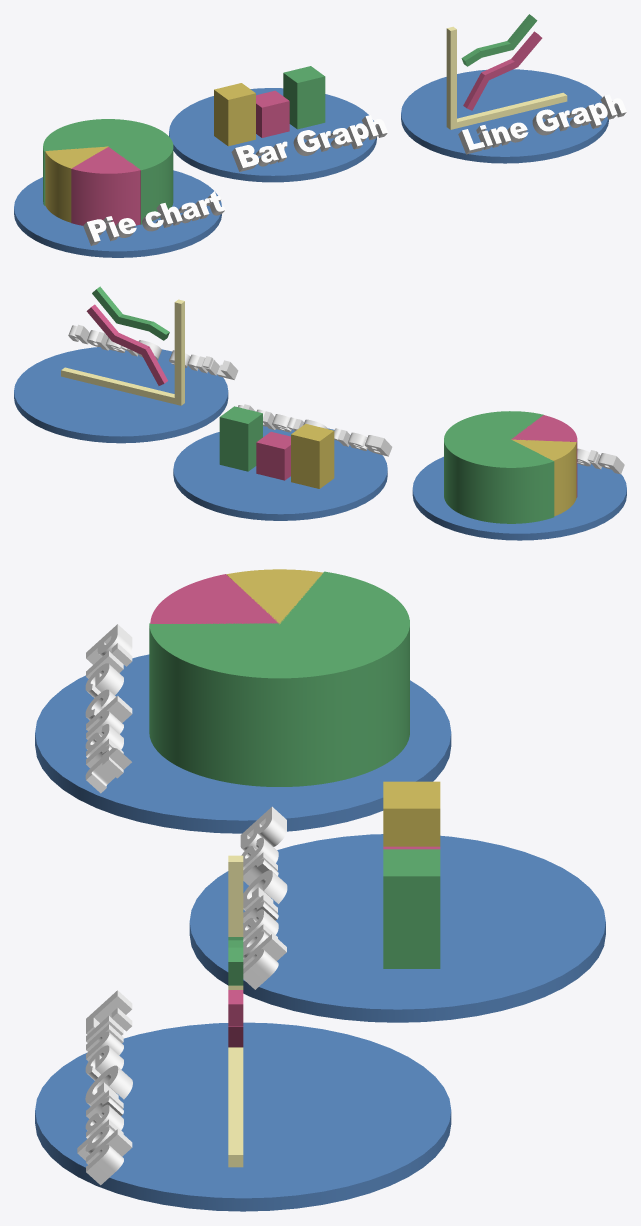
The model's file is Statisitcs.glb.
3 views of the same model, one above another, from view 1: azimuth 30°, elevation 25°; view 2: azimuth 150°, elevation 25°; view 3: azimuth 270°, elevation 25° (orthographic). The views are drawn at different scales.
Parts seen in each view (by area): view 1: Cylinder 10, Cylinder 9, Cylinder, Cylinder 6, Cylinder 7, Text 22, Text 21, Text 4, Cube, Cube 3, Cylinder 8, Cube 2 (+6 smaller); view 2: Cylinder 10, Cylinder 9, Cylinder 6, Cylinder, Cube, Cube 3, Cylinder 8, Text 22, Text 21, Cube 2, Cube 5, Cylinder 7 (+7 smaller); view 3: Cylinder 10, Cylinder 9, Cylinder 6, Cylinder, Text 22, Cube 3, Text 21, Text 4, Cylinder 7, Cube, Cylinder 8, Cube 5 (+1 smaller).
Boxes of the visible parts, box(x1,y1,x2,y2) form: Cylinder 10: box(401, 69, 608, 163); Cylinder 9: box(169, 88, 376, 182); Cylinder: box(14, 170, 221, 257); Cylinder 6: box(43, 119, 173, 224); Cylinder 7: box(71, 147, 140, 225); Text 22: box(458, 94, 626, 154); Text 21: box(231, 115, 387, 171); Text 4: box(83, 191, 225, 245); Cube: box(214, 83, 255, 146); Cube 3: box(283, 66, 325, 129); Cylinder 8: box(45, 146, 108, 222); Cube 2: box(256, 90, 289, 137); Cylinder 10: box(14, 347, 228, 443); Cylinder 9: box(173, 426, 387, 520); Cylinder 6: box(444, 411, 554, 523); Cylinder: box(412, 456, 626, 540); Cube: box(291, 424, 334, 488); Cube 3: box(219, 406, 262, 471); Cylinder 8: box(511, 439, 576, 516); Text 22: box(68, 324, 238, 379); Text 21: box(238, 404, 392, 456); Cube 2: box(256, 431, 290, 480); Cube 5: box(61, 367, 184, 405); Cylinder 7: box(511, 415, 577, 497); Cylinder 10: box(35, 1022, 451, 1211); Cylinder 9: box(189, 834, 605, 1022); Cylinder 6: box(149, 571, 409, 786); Cylinder: box(35, 654, 451, 833); Text 22: box(77, 990, 132, 1185); Cube 3: box(383, 849, 440, 968); Text 21: box(240, 806, 287, 989); Text 4: box(85, 624, 132, 793); Cylinder 7: box(150, 574, 278, 623); Cube: box(383, 781, 440, 846); Cylinder 8: box(226, 569, 322, 624); Cube 5: box(228, 1047, 243, 1167).
Bounding box in the file's own units: 0.3148 × 0.056 × 0.1371.
